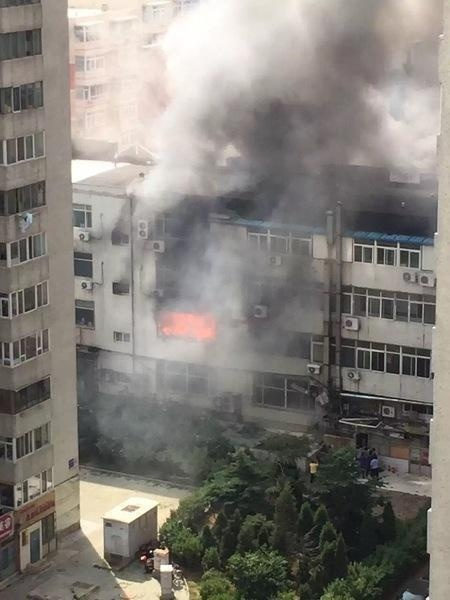fire: (157, 306, 220, 341)
